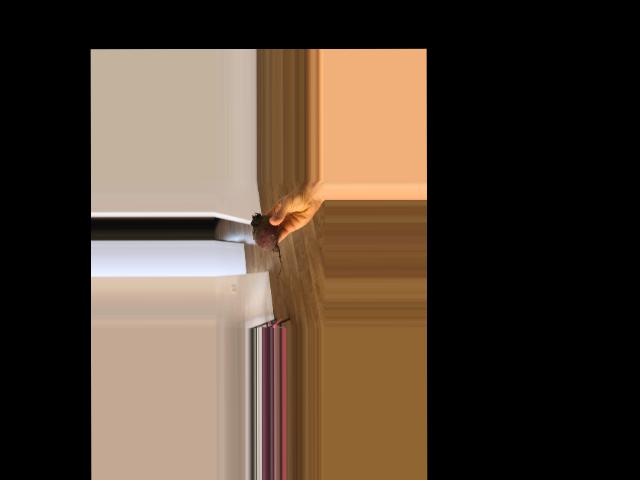beet: (251, 213, 281, 278)
